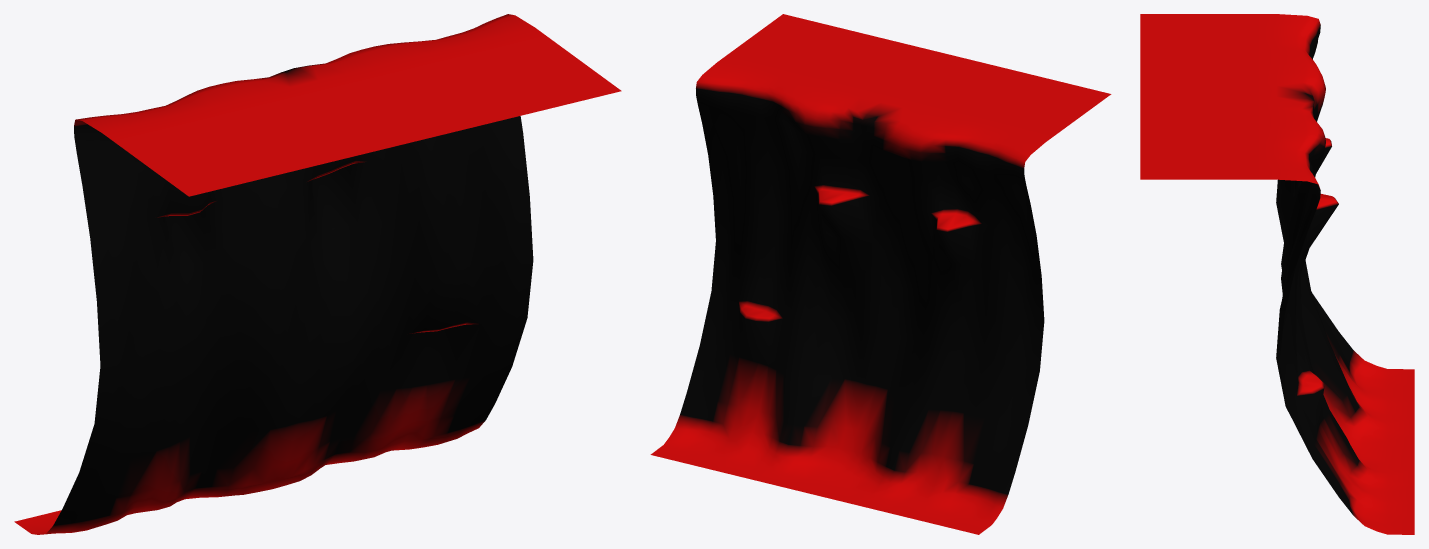
Rendered from GroundCliff01D 2M Foreground.fbx.
3 views of the same model, side by side, from view 1: azimuth 30°, elevation 25°; view 2: azimuth 150°, elevation 25°; view 3: azimuth 270°, elevation 25° (orthographic). The views are drawn at different scales.
Parts seen in each view (by area): view 1: GroundCliff01D 2M Foreground; view 2: GroundCliff01D 2M Foreground; view 3: GroundCliff01D 2M Foreground.
Boxes of the visible parts, box(x1,y1,x2,y2) form: GroundCliff01D 2M Foreground: box(14, 14, 621, 534); GroundCliff01D 2M Foreground: box(650, 14, 1111, 534); GroundCliff01D 2M Foreground: box(1140, 14, 1414, 534).
Bounding box in the file's own units: 2 × 2 × 1.4.
